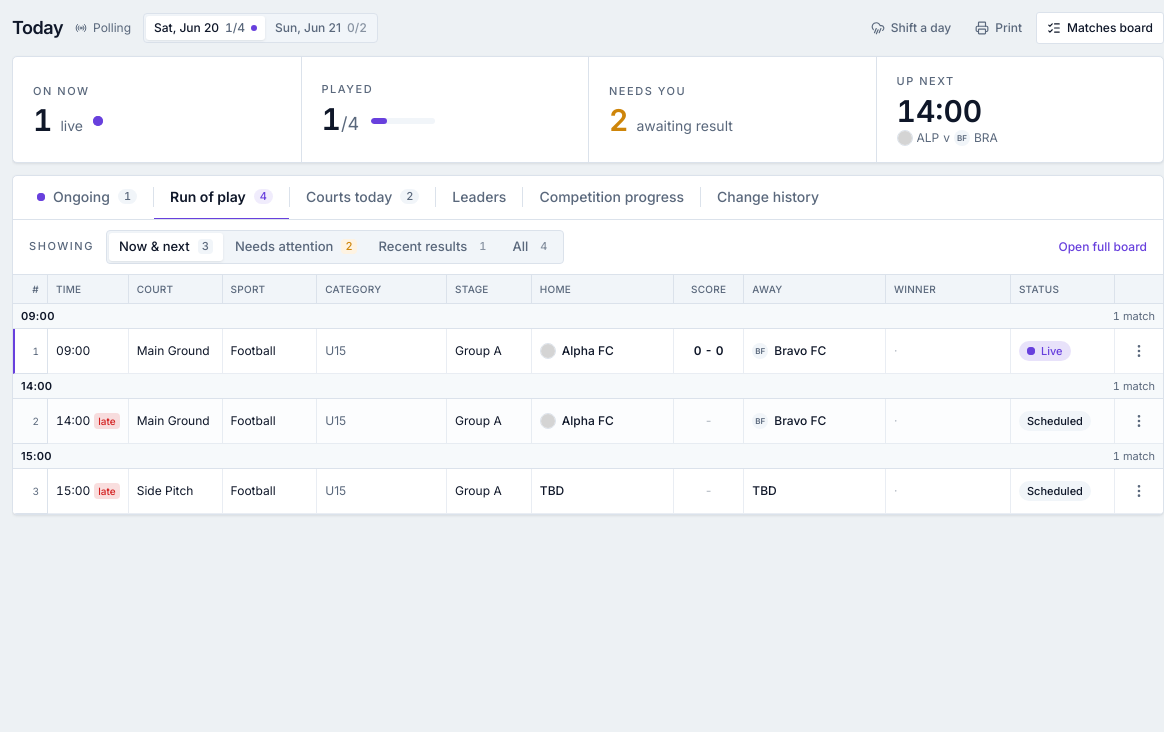
Scenario: ControlRoomPage › puts each team's crest beside its name on the sheet, winner included
Click the button with test id "feed-filter-all": (532, 246) 502,232 -> 561,260
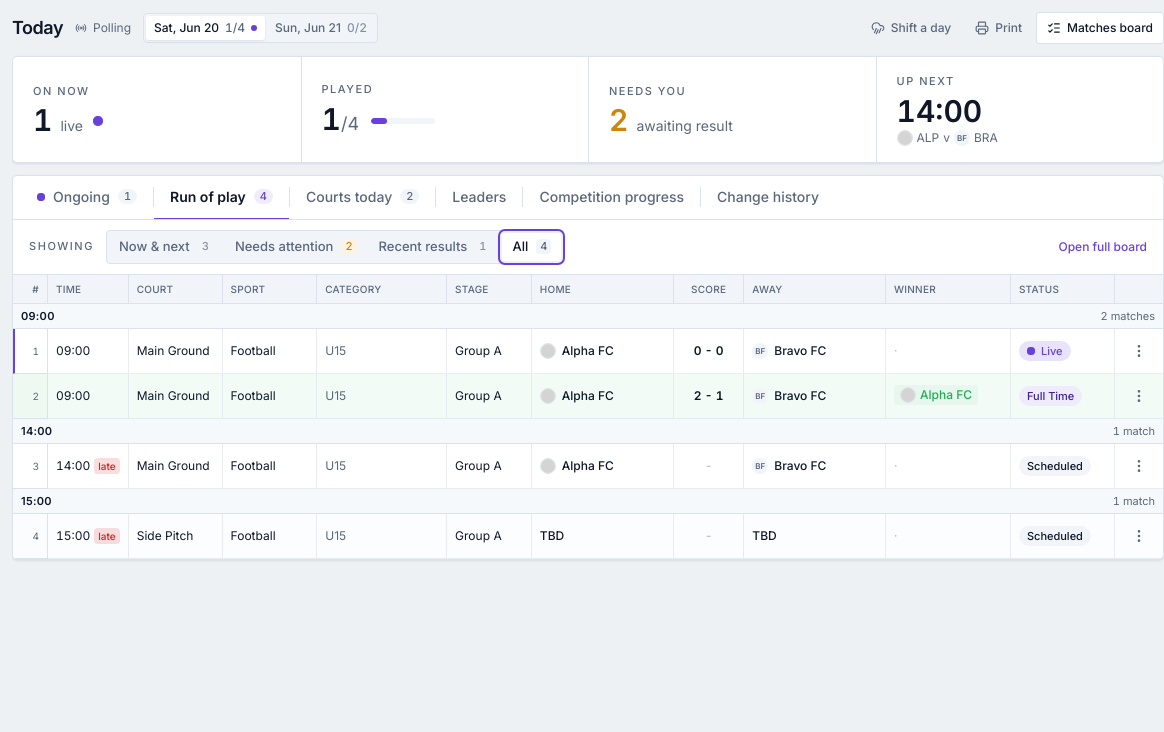
Check: the cell with test id "winner-c-done" reads "Alpha FC", box 920,386 -> 972,402
